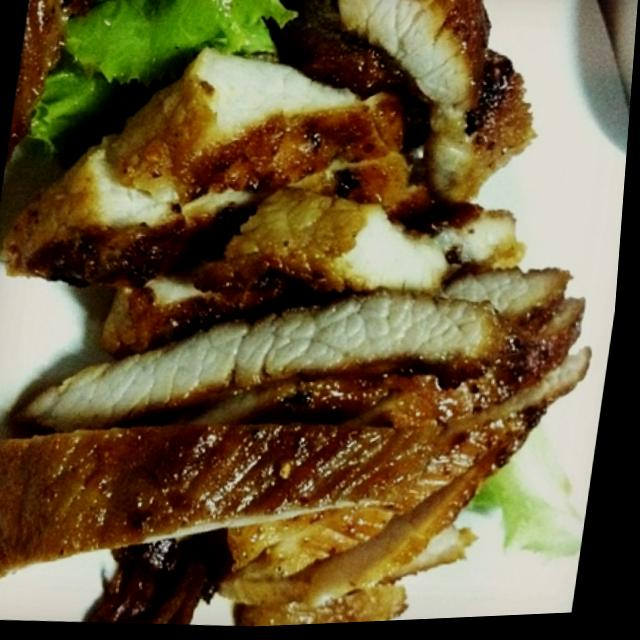猪肉菜式: (0, 0, 638, 637)
